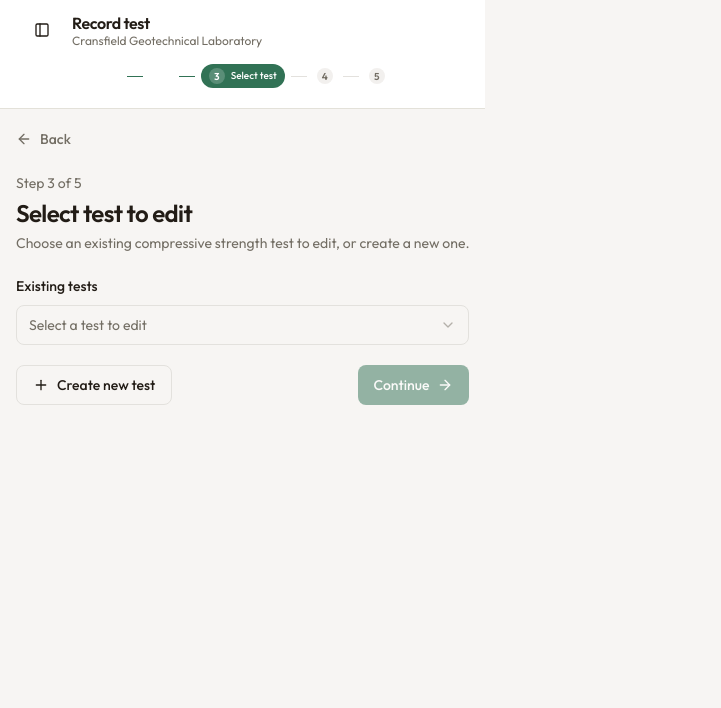
Test case: RecordTestWizard selection flow › requires county details before continuing with a selected compressive test
The image size is (721, 708).
expect the heading "Select test to edit" is shown: met, box [16, 198, 192, 228]
Click the dropdown named "Existing tests" at (88, 325), box [16, 305, 470, 345]
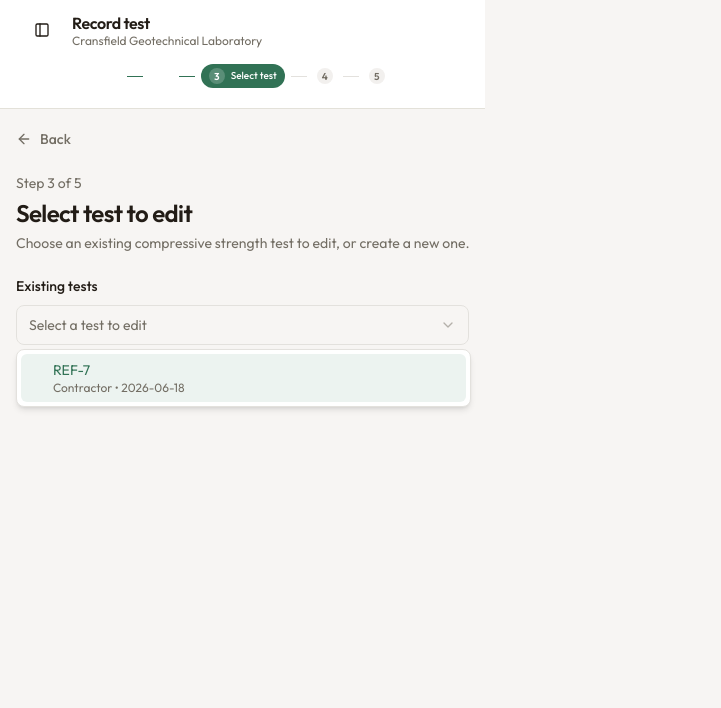
Click the option "REF-7 Contractor • 2026-06-18" at (72, 370), box [21, 354, 466, 402]
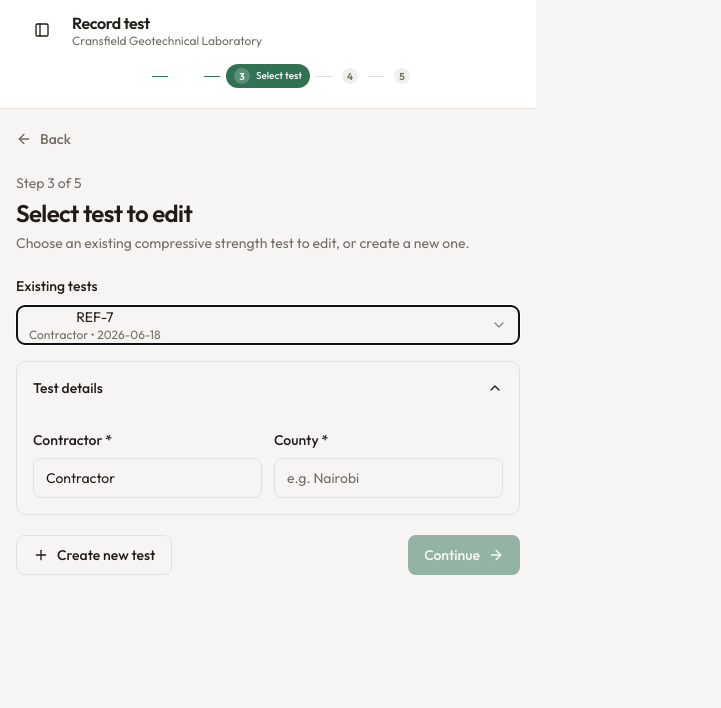
expect the button "Continue" is disabled: met, box [408, 535, 520, 575]
Type "Nairobi" into the field labelled "County *" at (388, 478), box [274, 458, 503, 498]
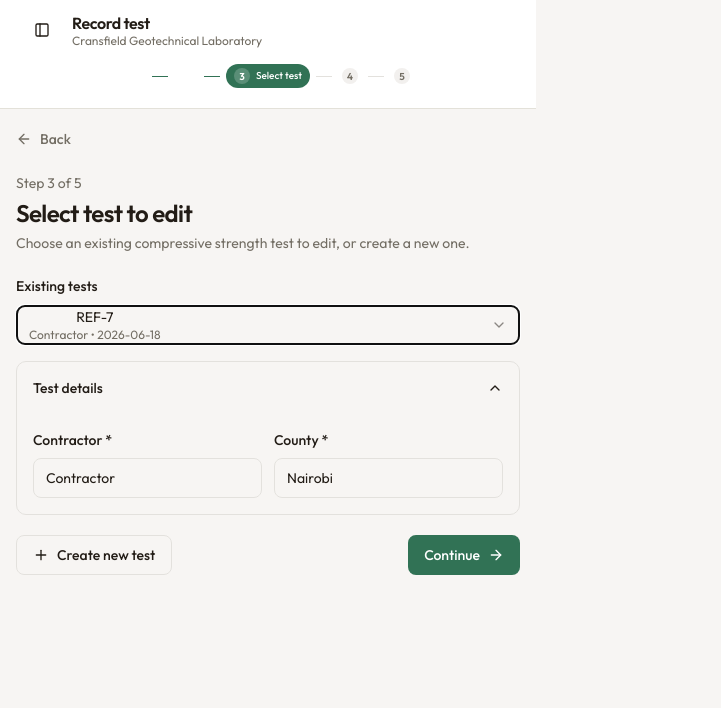
expect the button "Continue" is enabled: met
Click the button "Continue" at (464, 555), box [408, 535, 520, 575]
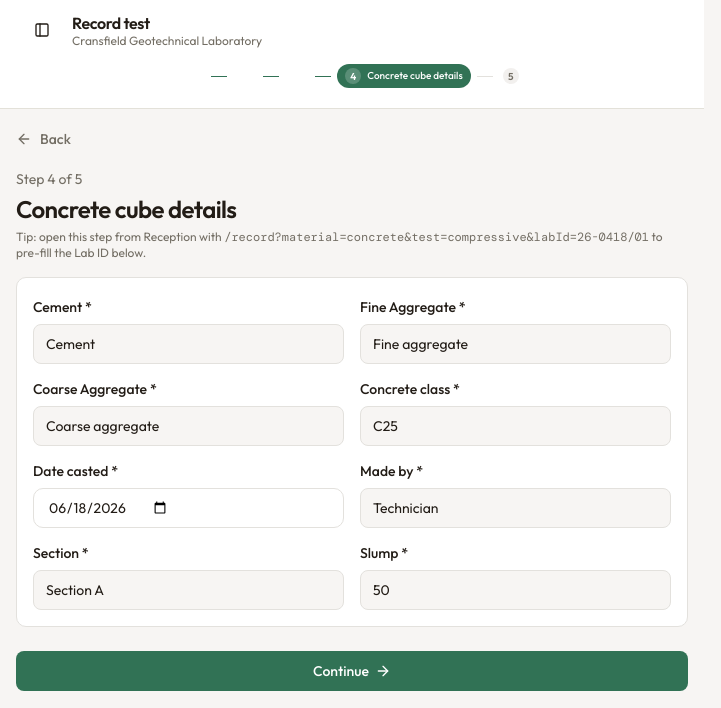
expect the heading "Concrete cube details" is shown: met, box [16, 194, 236, 224]
